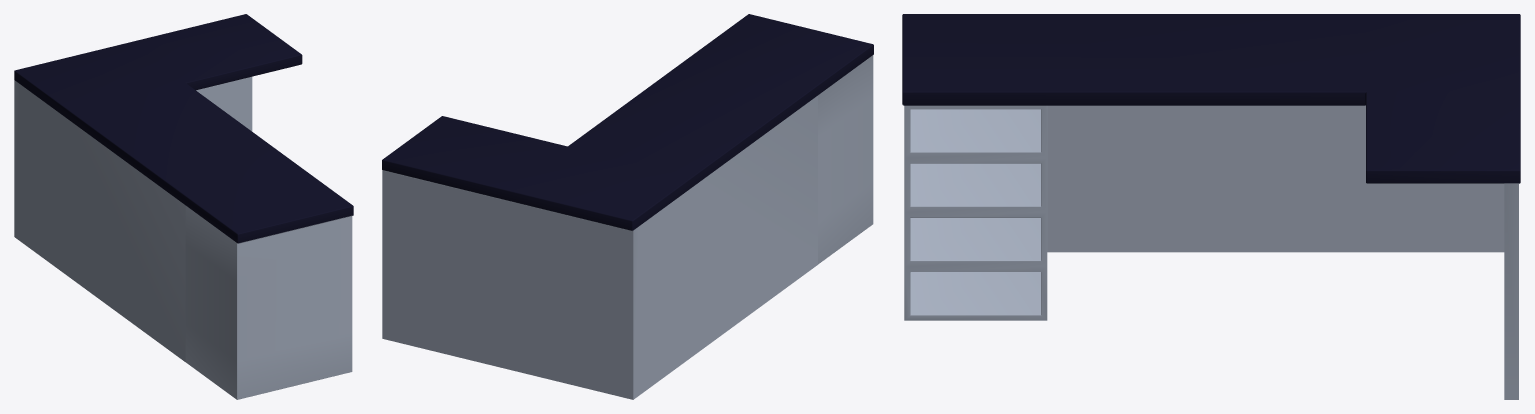
The model's file is L-shaped desk table.fbx.
3 views of the same model, side by side, from view 1: azimuth 30°, elevation 25°; view 2: azimuth 150°, elevation 25°; view 3: azimuth 270°, elevation 25° (orthographic). The views are drawn at different scales.
Visible parts, largest first — view 1: L-Shaped Desk; view 2: L-Shaped Desk; view 3: L-Shaped Desk.
Part boxes in pixels (left/top/right/bottom): L-Shaped Desk: left=14, top=14, right=353, bottom=399; L-Shaped Desk: left=382, top=14, right=873, bottom=399; L-Shaped Desk: left=902, top=14, right=1520, bottom=399.
Size of the model in its own units: 120 by 82 by 200.
